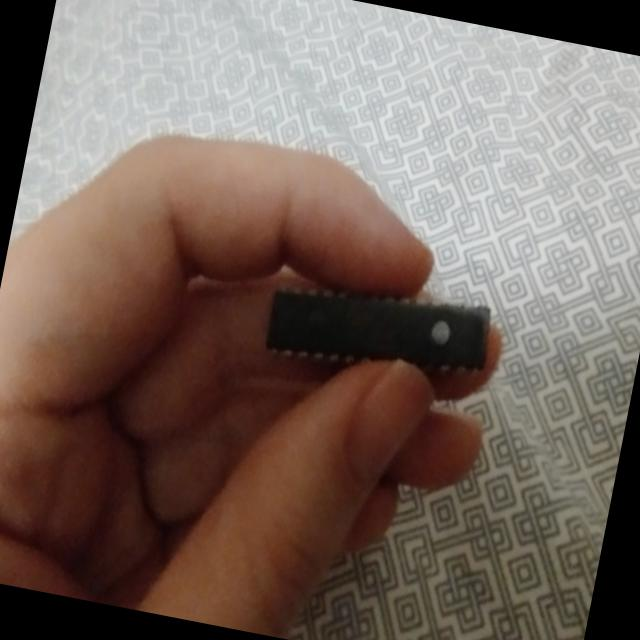atmega: (257, 260, 499, 400)
